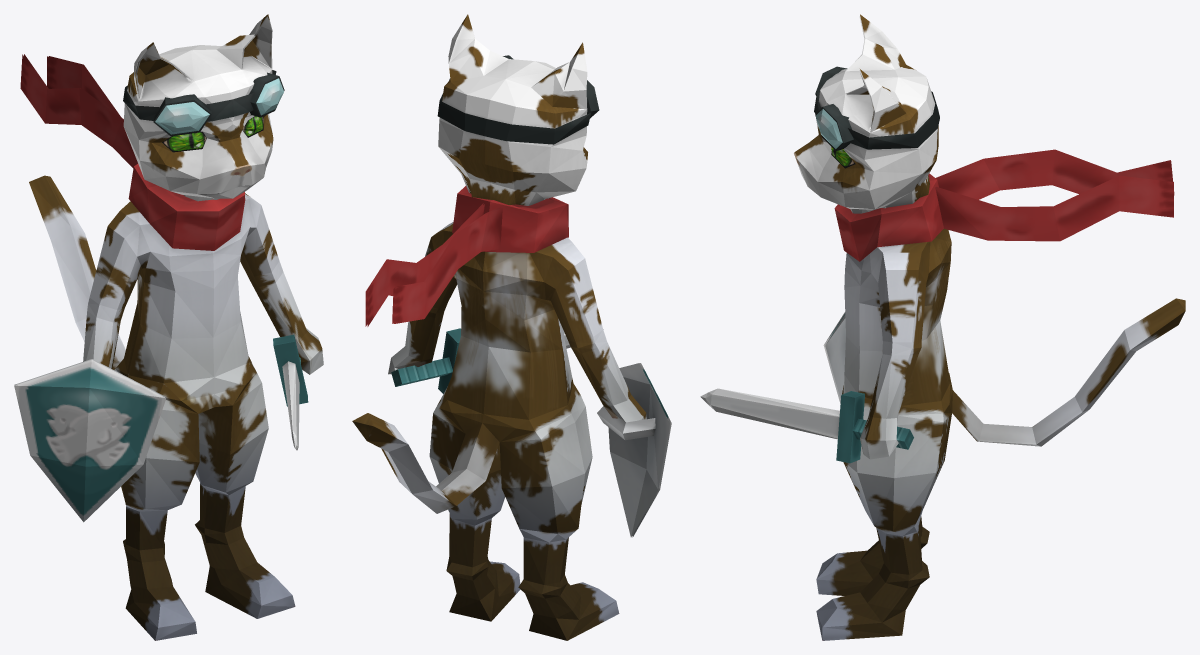
The model's file is curuthers.obj.
The picture shows the model from 3 angles, left to right: view 1: azimuth 30°, elevation 25°; view 2: azimuth 150°, elevation 25°; view 3: azimuth 270°, elevation 25°; orthographic projection. The views are drawn at different scales.
Parts seen in each view (by area): view 1: Body, Shield, LeftLowerLeg, RightUpperLeg, LeftUpperLeg, RightLowerLeg, RightUpperArm, LeftLowerArm, Sword, RightLowerArm, LeftUpperArm; view 2: Body, RightUpperLeg, Shield, RightLowerLeg, LeftLowerLeg, LeftUpperLeg, RightUpperArm, RightLowerArm, LeftLowerArm, Sword, LeftUpperArm; view 3: Body, LeftUpperLeg, LeftLowerLeg, Sword, LeftUpperArm, LeftLowerArm, RightLowerLeg, Shield.
Boxes of the visible parts, box(x1,y1,x2,y2) form: Body: box(20, 14, 284, 413); Shield: box(14, 359, 166, 522); LeftLowerLeg: box(195, 483, 295, 618); RightUpperLeg: box(114, 358, 199, 511); LeftUpperLeg: box(195, 356, 268, 495); RightLowerLeg: box(123, 507, 196, 640); RightUpperArm: box(89, 211, 150, 309); LeftLowerArm: box(245, 261, 323, 374); Sword: box(273, 334, 308, 450); RightLowerArm: box(83, 297, 124, 368); LeftUpperArm: box(240, 193, 279, 276); Body: box(352, 14, 599, 513); RightUpperLeg: box(499, 383, 592, 542); Shield: box(597, 363, 671, 537); RightLowerLeg: box(518, 537, 619, 640); LeftLowerLeg: box(446, 514, 520, 621); LeftUpperLeg: box(429, 378, 505, 525); RightUpperArm: box(544, 243, 603, 342); RightLowerArm: box(568, 330, 646, 422); LeftLowerArm: box(388, 302, 447, 374); Sword: box(391, 328, 603, 393); LeftUpperArm: box(425, 222, 457, 308); Body: box(794, 14, 1185, 446); LeftUpperLeg: box(843, 397, 951, 536); LeftLowerLeg: box(816, 522, 929, 640); Sword: box(700, 388, 913, 463); LeftUpperArm: box(871, 252, 928, 342); LeftLowerArm: box(860, 341, 921, 459); RightLowerLeg: box(816, 516, 929, 595); Shield: box(823, 312, 845, 403).
Size of the model in its own units: 3.18 by 6.02 by 4.66.
1 material, 1 textured.
